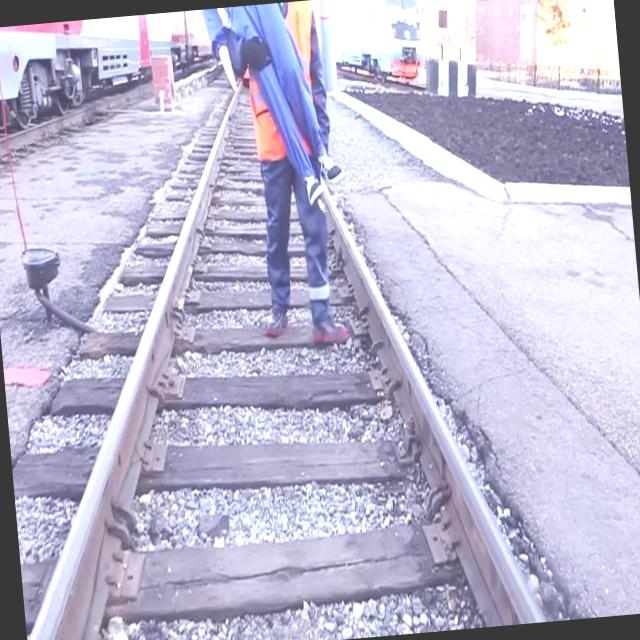boots: (257, 280, 358, 356)
vest: (241, 0, 326, 164)
